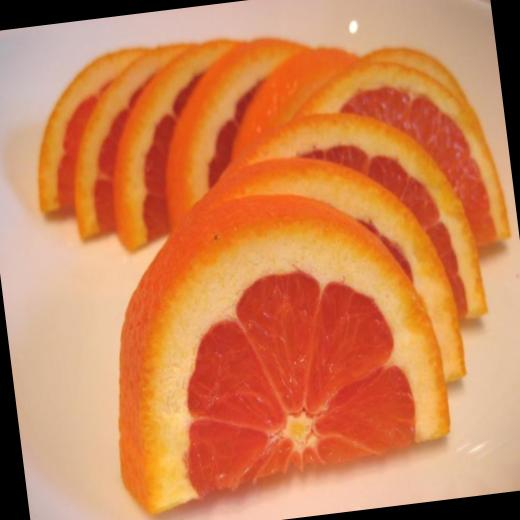Grape: (83, 179, 444, 501)
